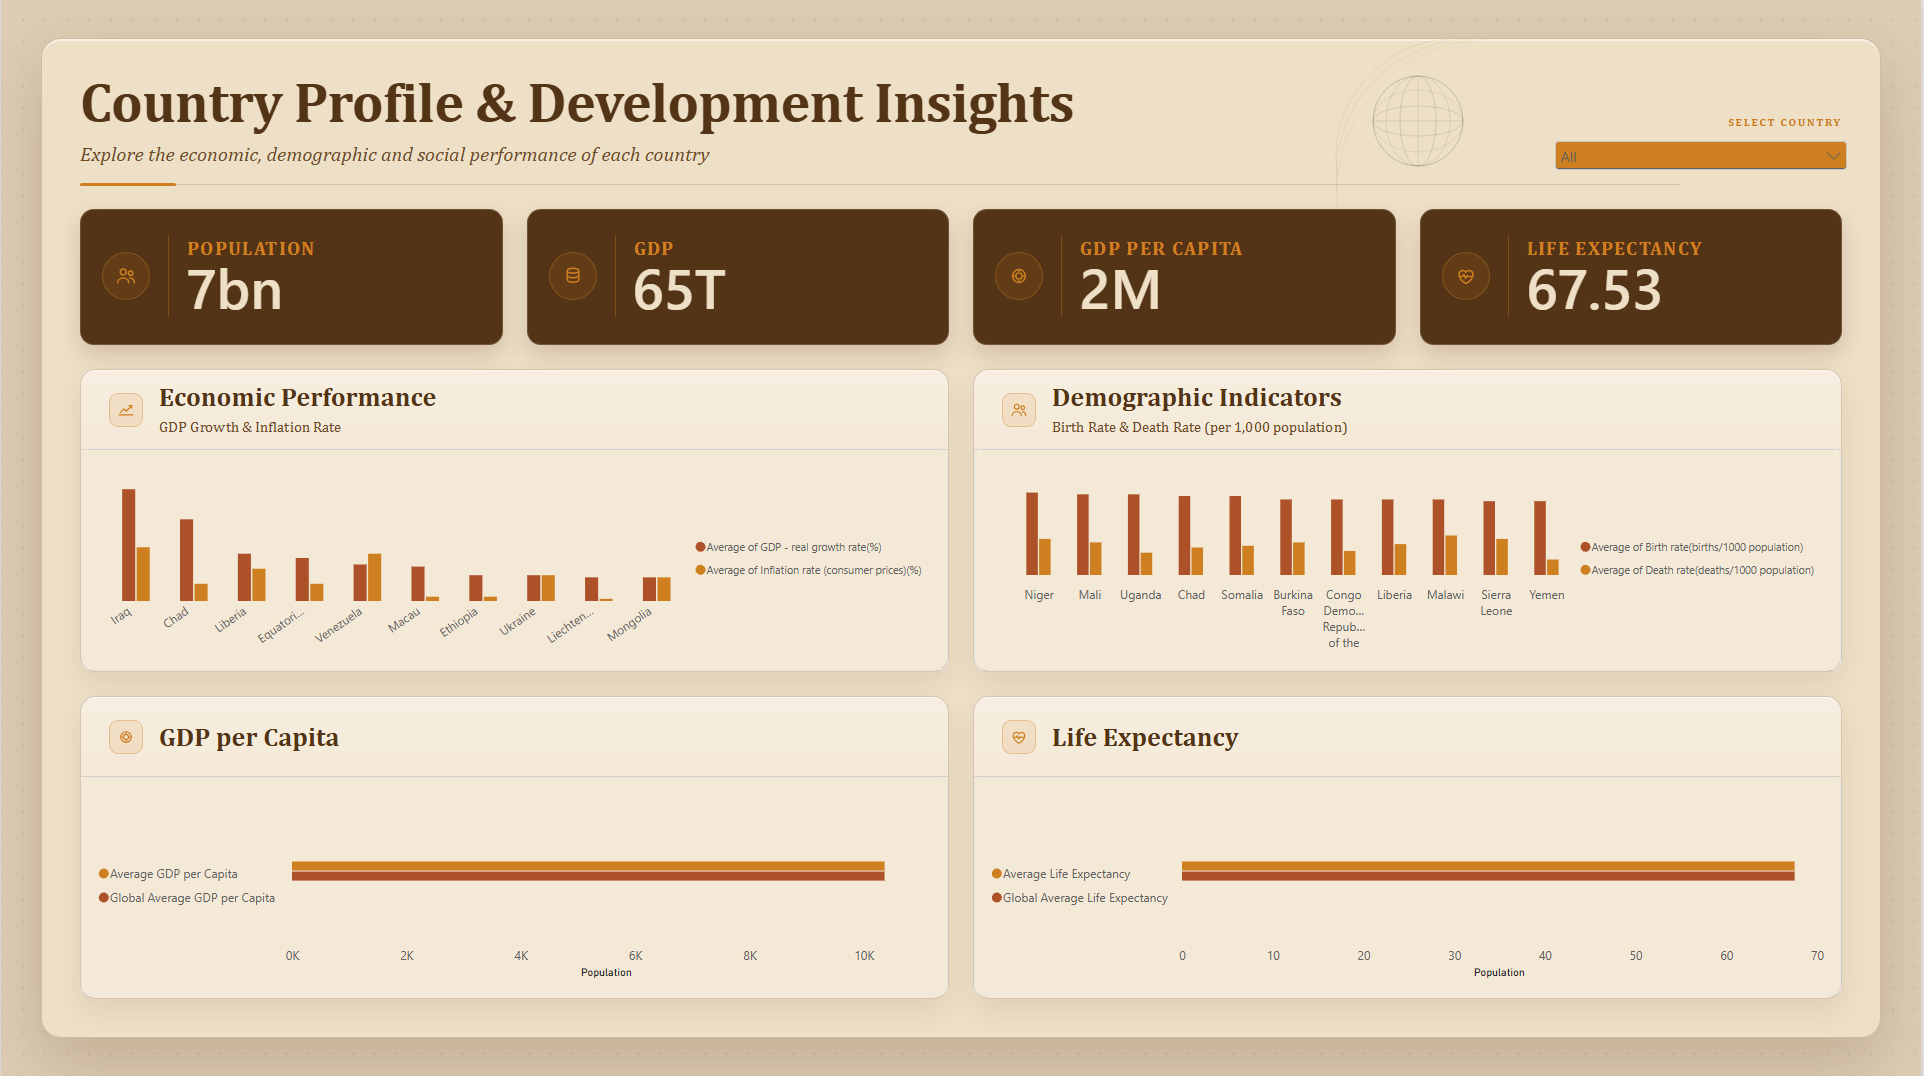

Layout of this report page (visuals, bound fields, positions):
{"tool":"powerbi","page":{"name":"Country Profile & Development Insights","canvas":[1920,1080],"ordinal":3},"visuals":[{"type":"cardVisual","fields":{"Data":["_Measures.Total Population"]},"box":[170,229,266,114],"z":0},{"type":"cardVisual","fields":{"Data":["Sum(Country Data Comparison.GDP)"]},"box":[616,229,266,114],"z":1000},{"type":"cardVisual","fields":{"Data":["Sum(Country Data Comparison.GDP - per capita)"]},"box":[1063,229,266,114],"z":2000},{"type":"cardVisual","fields":{"Data":["_Measures.Average Life Expectancy"]},"box":[1510,229,266,114],"z":3000},{"type":"slicer","fields":{"Values":["Country Data Comparison.Country"]},"box":[1549,136,302,47],"z":4000},{"type":"clusteredBarChart","fields":{"Y":["_Measures.Average GDP per Capita","_Measures.Global Average GDP per Capita"]},"box":[80,777,867,218],"z":5000},{"type":"clusteredBarChart","fields":{"Y":["_Measures.Average Life Expectancy","_Measures.Global Average Life Expectancy"]},"box":[973,777,867,218],"z":6000},{"type":"clusteredColumnChart","fields":{"Category":["Country Data Comparison.Country"],"Y":["Avg(Country Data Comparison.Birth rate(births/1000 population))","Avg(Country Data Comparison.Death rate(deaths/1000 population))"]},"box":[974,448,866,222],"z":7000},{"type":"clusteredColumnChart","fields":{"Category":["Country Data Comparison.Country"],"Y":["Avg(Country Data Comparison.GDP - real growth rate(%))","Avg(Country Data Comparison.Inflation rate (consumer prices)(%))"]},"box":[81,448,866,222],"z":8000},{"type":"actionButton","box":[0,0,100,40],"z":9000}]}

Visuals, with their boxes in screenshot pixels (x1, y1, x2, y2), scaled from the page's 1920x1080 canvas onto the 1924x1076 screenshot:
cardVisual - _Measures.Total Population: bbox=[170, 228, 437, 342]
cardVisual - Sum(Country Data Comparison.GDP): bbox=[617, 228, 884, 342]
cardVisual - Sum(Country Data Comparison.GDP - per capita): bbox=[1065, 228, 1332, 342]
cardVisual - _Measures.Average Life Expectancy: bbox=[1513, 228, 1780, 342]
slicer - Country Data Comparison.Country: bbox=[1552, 135, 1855, 182]
clusteredBarChart - _Measures.Average GDP per Capita x _Measures.Global Average GDP per Capita: bbox=[80, 774, 949, 991]
clusteredBarChart - _Measures.Average Life Expectancy x _Measures.Global Average Life Expectancy: bbox=[975, 774, 1844, 991]
clusteredColumnChart - Country Data Comparison.Country x Avg(Country Data Comparison.Birth rate(births/1000 population)): bbox=[976, 446, 1844, 668]
clusteredColumnChart - Country Data Comparison.Country x Avg(Country Data Comparison.GDP - real growth rate(%)): bbox=[81, 446, 949, 668]
actionButton: bbox=[0, 0, 100, 40]
